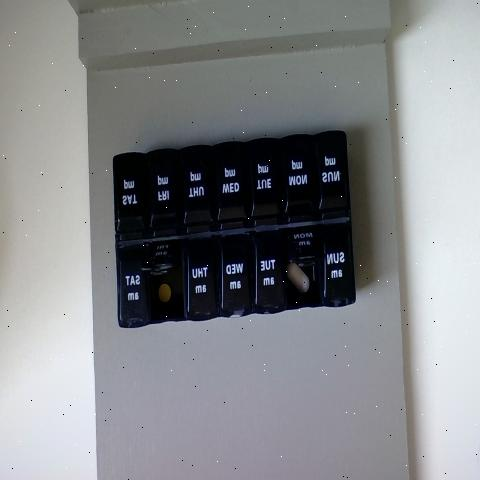FRI-pm: (149, 155, 180, 236)
MON-pm: (281, 142, 313, 219)
Open: (141, 239, 184, 319), (284, 255, 316, 309)
Pill: (288, 258, 312, 297), (154, 276, 176, 310)
PillBox: (96, 85, 377, 362)
SAT-am: (118, 239, 152, 324)
SAT-pm: (115, 156, 147, 239)
SUN-am: (322, 222, 355, 306)
SUN-pm: (316, 135, 348, 212)
THU-am: (184, 237, 217, 323)
THU-pm: (182, 149, 212, 230)
TUE-am: (254, 238, 286, 317)
TUE-pm: (251, 145, 282, 224)
WED-am: (220, 234, 252, 317)
WED-pm: (218, 148, 246, 223)
